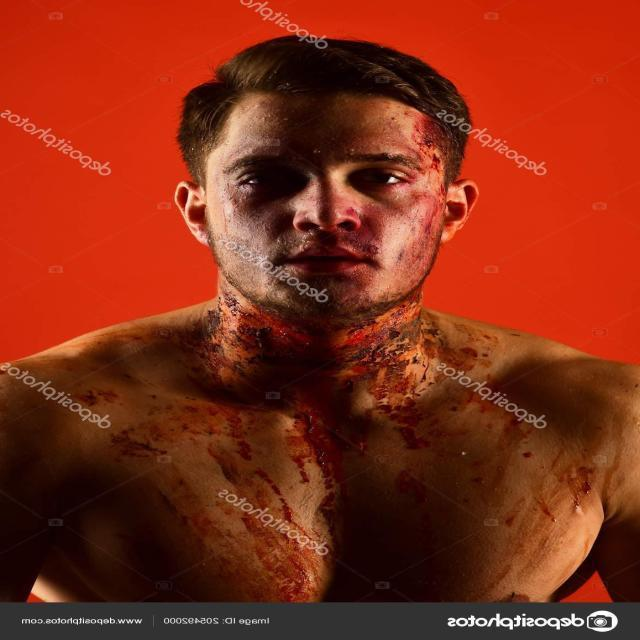flood: (210, 101, 469, 600)
